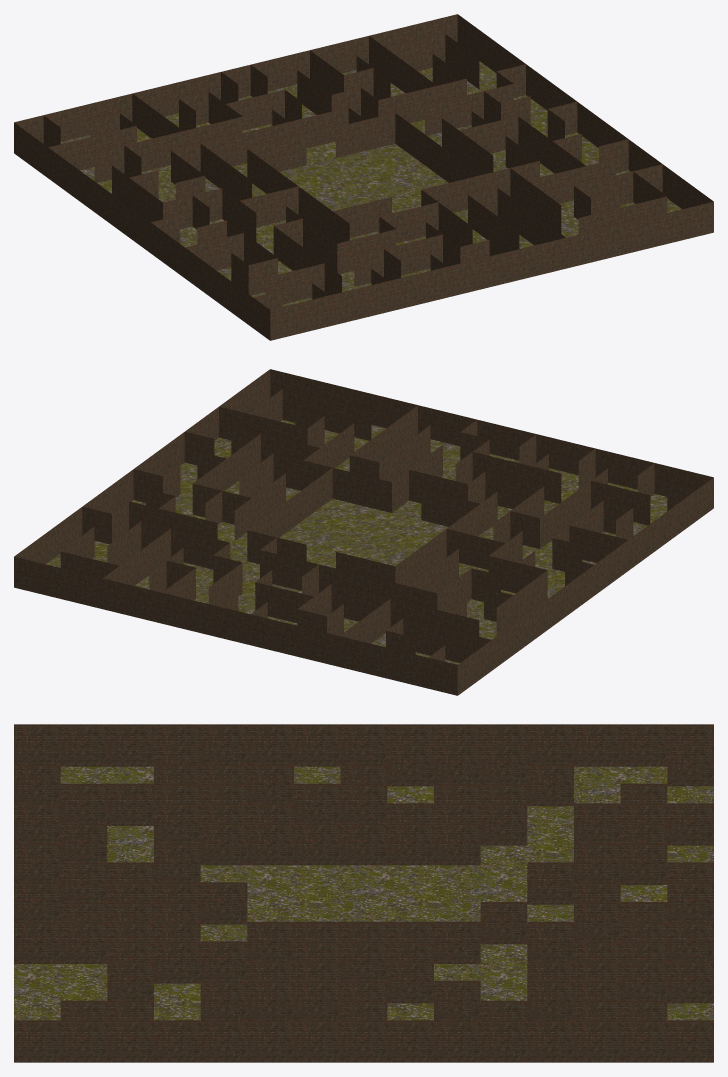
Rendered from mazeTextured.obj.
The picture shows the model from 3 angles, top to bottom: view 1: azimuth 30°, elevation 25°; view 2: azimuth 150°, elevation 25°; view 3: azimuth 270°, elevation 25°; orthographic projection. The views are drawn at different scales.
Parts seen in each view (by area): view 1: Wall_Plane.106, Ground_Plane.001; view 2: Wall_Plane.106, Ground_Plane.001; view 3: Wall_Plane.106, Ground_Plane.001.
Boxes of the visible parts, left/top/right/bottom form: Wall_Plane.106: left=14, top=14, right=713, bottom=340; Ground_Plane.001: left=60, top=61, right=681, bottom=306; Wall_Plane.106: left=14, top=369, right=713, bottom=695; Ground_Plane.001: left=46, top=420, right=667, bottom=664; Wall_Plane.106: left=14, top=724, right=713, bottom=1062; Ground_Plane.001: left=14, top=766, right=713, bottom=1020.
Bounding box in the file's own units: 150 × 10 × 150.
Materials: 2 (2 with a texture image).
